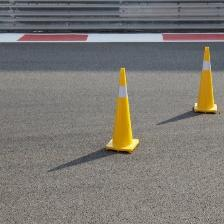traffic cone: (105, 65, 140, 154), (192, 46, 218, 114)
